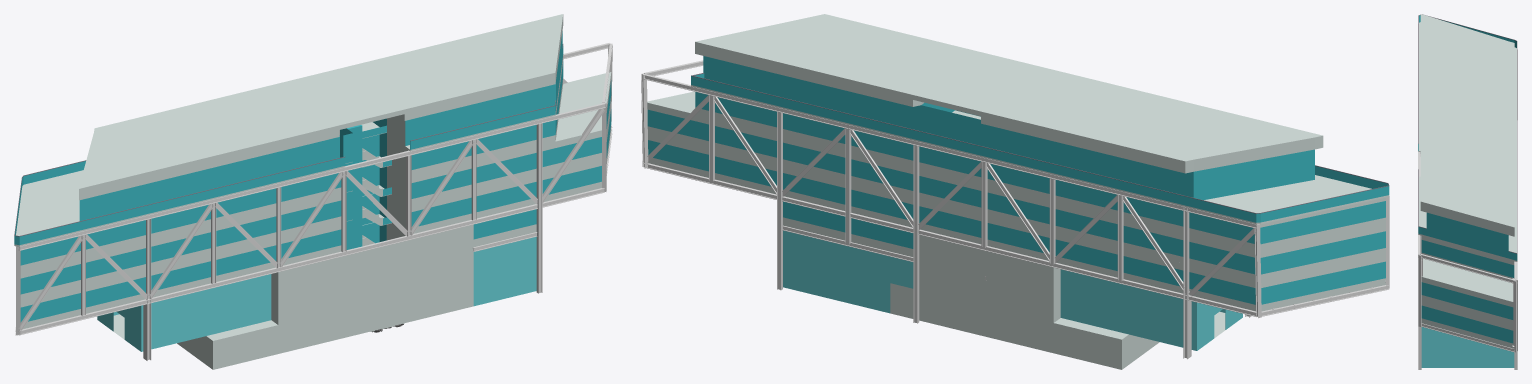
Rendered from CIA37.fbx.
3 views of the same model, side by side, from view 1: azimuth 30°, elevation 25°; view 2: azimuth 150°, elevation 25°; view 3: azimuth 270°, elevation 25° (orthographic). The views are drawn at different scales.
Parts seen in each view (by area): view 1: Cube.017, Cube.004, Cube.010, Cube.018, Cube.005, Cube.033, Cube.040, Cube.042, Cube.041, Cube.043, Cube.072, Cube.047 (+2 smaller); view 2: Cube.017, Cube.003, Cube.009, Cube.023, Cube.002, Cube.025, Cube.024, Cube.001, Cube.037, Cube.032, Cube.031, Cube.044 (+4 smaller); view 3: Cube.017, Cube.028, Cube.007, Cube.027, Cube.010, Cube.019, Cube.009, Cube.018.
Boxes of the visible parts, x1,y1,x2,y2 form: Cube.017: [14, 14, 611, 369]; Cube.004: [19, 188, 604, 335]; Cube.010: [19, 103, 605, 250]; Cube.018: [536, 123, 542, 293]; Cube.005: [143, 219, 151, 360]; Cube.033: [542, 108, 604, 202]; Cube.040: [18, 236, 84, 330]; Cube.042: [279, 172, 344, 266]; Cube.041: [148, 204, 214, 298]; Cube.043: [409, 140, 474, 235]; Cube.072: [344, 171, 409, 236]; Cube.047: [474, 139, 537, 204]; Cube.017: [647, 14, 1389, 369]; Cube.003: [643, 163, 1257, 316]; Cube.009: [643, 74, 1256, 228]; Cube.023: [913, 144, 919, 323]; Cube.002: [1183, 207, 1191, 359]; Cube.025: [777, 111, 782, 290]; Cube.024: [845, 127, 851, 243]; Cube.001: [1261, 285, 1389, 316]; Cube.037: [782, 225, 913, 261]; Cube.032: [850, 130, 913, 227]; Cube.031: [986, 163, 1049, 261]; Cube.044: [714, 96, 776, 194]; Cube.017: [1418, 14, 1517, 367]; Cube.028: [1420, 254, 1514, 283]; Cube.007: [1421, 323, 1514, 352]; Cube.027: [1513, 280, 1517, 352]; Cube.010: [1418, 24, 1420, 257]; Cube.019: [1418, 254, 1422, 326]; Cube.009: [1515, 49, 1517, 283]; Cube.018: [1418, 235, 1421, 369].
Size of the model in its own units: 10088 by 3219 by 1648.
